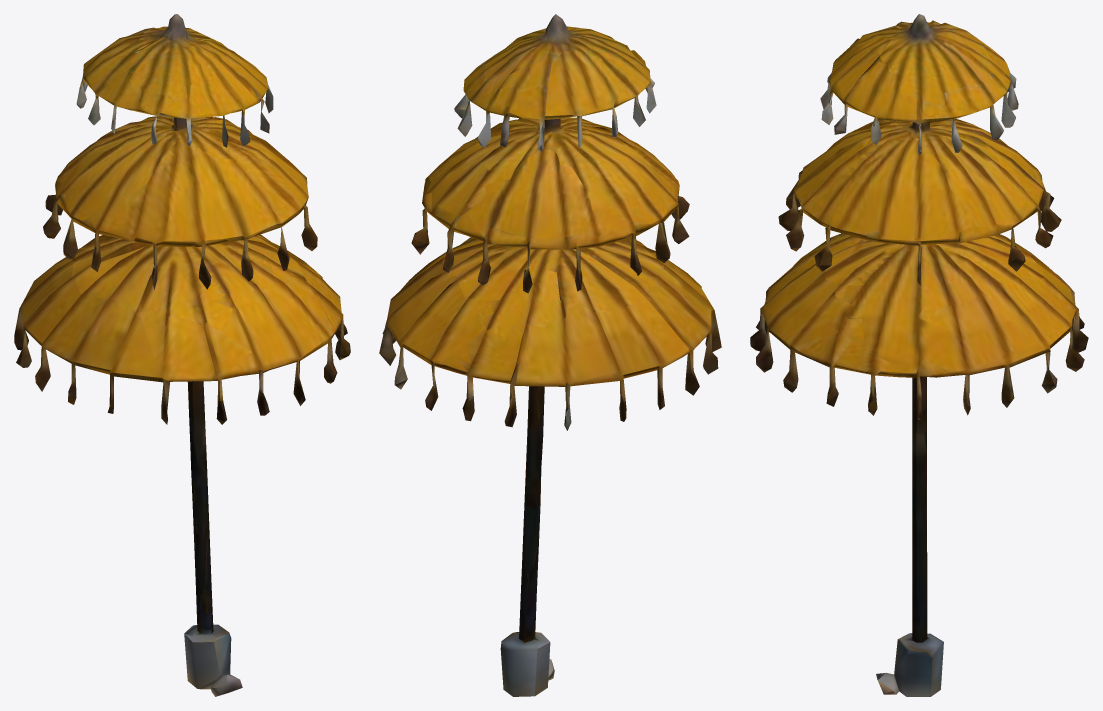
Rendered from payung_kuning_lod2.glb.
The picture shows the model from 3 angles, left to right: view 1: azimuth 30°, elevation 25°; view 2: azimuth 150°, elevation 25°; view 3: azimuth 270°, elevation 25°; orthographic projection. The views are drawn at different scales.
Parts seen in each view (by area): view 1: tripo_node_b936ac20-6ed1-4dcc-8e43-0f115f841609; view 2: tripo_node_b936ac20-6ed1-4dcc-8e43-0f115f841609; view 3: tripo_node_b936ac20-6ed1-4dcc-8e43-0f115f841609.
Boxes of the visible parts, x1=… form: tripo_node_b936ac20-6ed1-4dcc-8e43-0f115f841609: x1=14, y1=14, x2=350, y2=696; tripo_node_b936ac20-6ed1-4dcc-8e43-0f115f841609: x1=379, y1=14, x2=721, y2=696; tripo_node_b936ac20-6ed1-4dcc-8e43-0f115f841609: x1=750, y1=14, x2=1088, y2=696.
Bounding box in the file's own units: 0.4552 × 1 × 0.4641.
Materials: 1 (1 with a texture image).
